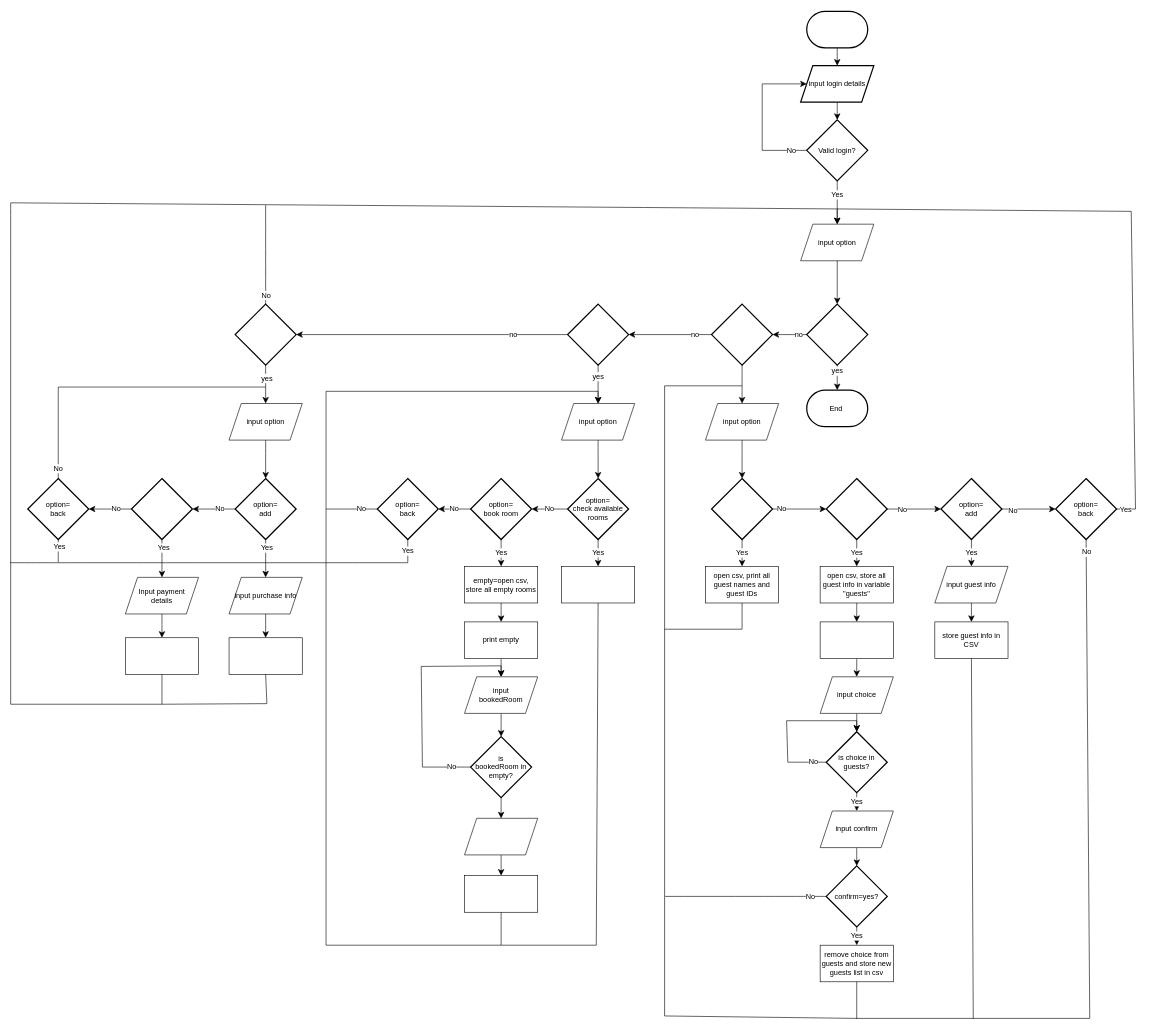
Some shapes in this 1152 by 1030 pixel diagram are drawn without their labels. Here are the shapes that lost their labels. From the top down, the centre of each, then its label:
At point (837, 29): "Start".
At point (265, 334): "option=payment?".
At point (598, 334): "option=rooms?".
At point (742, 334): "option=guests?".
At point (837, 334): "option=logout?".
At point (162, 509): "option= pay".
At point (742, 509): "option= view".
At point (856, 509): "option= remove".
At point (598, 584): "open csv, print all empty rooms".
At point (162, 655): "store payment info in csv".
At point (265, 655): "store purchase info in csv".
At point (856, 639): "print name and guest ID from guests".
At point (501, 836): "input guestDetails".
At point (501, 893): "store details in csv for booked room".
